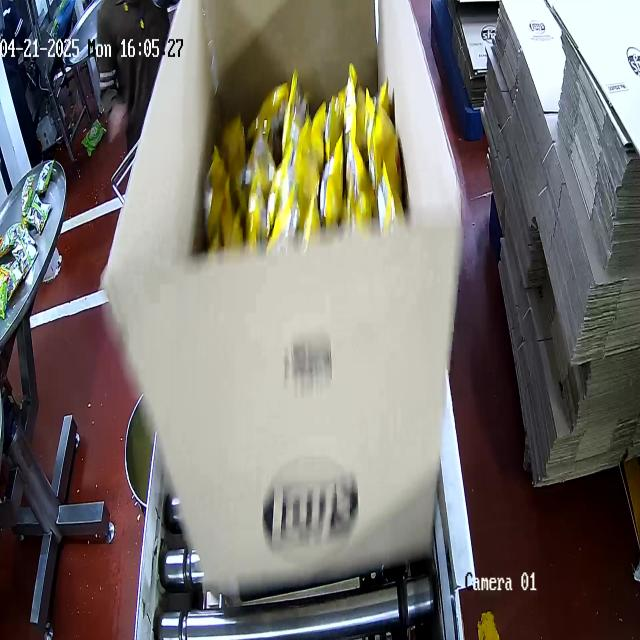SALTED: (194, 50, 403, 264)
